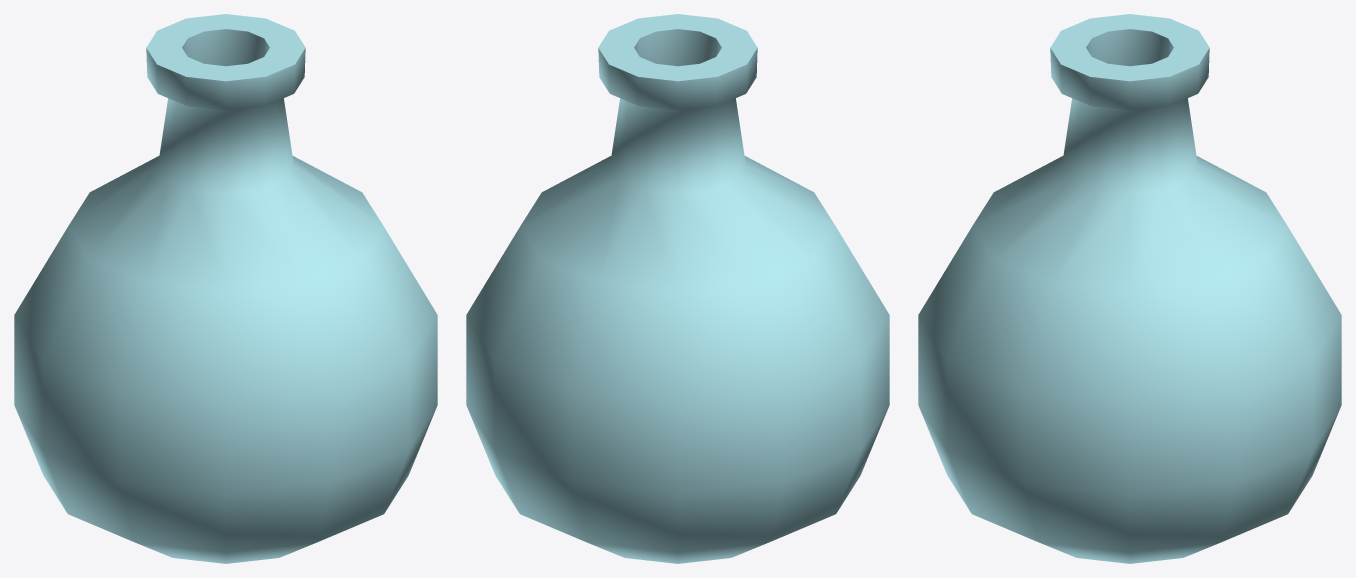
The model's file is PotionBottleFilled2.fbx.
3 views of the same model, side by side, from view 1: azimuth 30°, elevation 25°; view 2: azimuth 150°, elevation 25°; view 3: azimuth 270°, elevation 25° (orthographic).
Parts seen in each view (by area): view 1: PotionBottleFilled2; view 2: PotionBottleFilled2; view 3: PotionBottleFilled2.
Boxes of the visible parts, box(x1,y1,x2,y2) form: PotionBottleFilled2: box(14, 14, 437, 563); PotionBottleFilled2: box(466, 14, 889, 563); PotionBottleFilled2: box(918, 14, 1341, 563).
Bounding box in the file's own units: 11.96 × 14.68 × 11.96.
